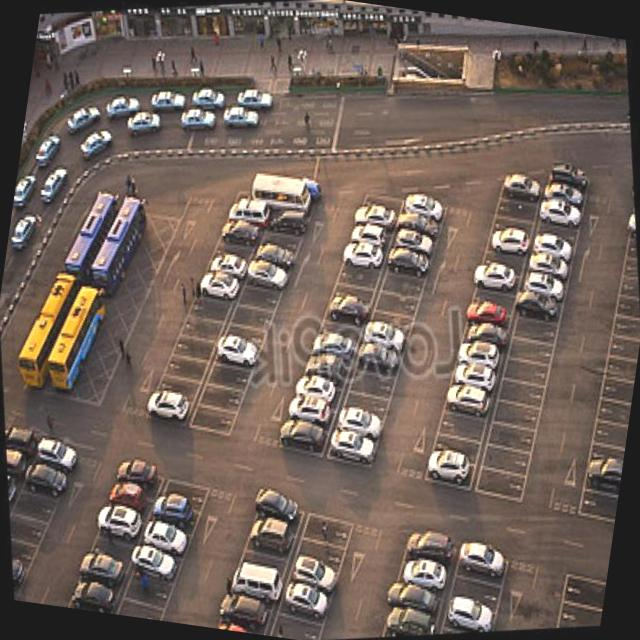car: (388, 542, 454, 600), (220, 554, 288, 610), (417, 441, 482, 499), (396, 516, 462, 573), (236, 508, 300, 566), (450, 536, 514, 592), (277, 572, 338, 630), (212, 584, 280, 636), (284, 545, 346, 600), (72, 540, 134, 594), (438, 370, 500, 424), (382, 570, 446, 622), (127, 536, 188, 590), (272, 412, 334, 464), (322, 422, 381, 476), (136, 512, 197, 564), (140, 382, 200, 434), (436, 591, 499, 640), (92, 494, 150, 546), (356, 312, 414, 364), (347, 336, 405, 388), (147, 487, 206, 538), (297, 344, 356, 395), (246, 478, 306, 528), (374, 594, 439, 640), (305, 324, 364, 374), (445, 349, 504, 399), (451, 326, 510, 376), (328, 402, 389, 450), (456, 307, 517, 355), (210, 332, 268, 379), (382, 236, 436, 286), (19, 454, 75, 502), (282, 389, 338, 437), (346, 190, 402, 238), (65, 571, 126, 615), (470, 253, 526, 300), (112, 452, 168, 499), (319, 288, 375, 335), (102, 473, 156, 521), (29, 431, 84, 478), (462, 288, 518, 334), (289, 367, 343, 414), (341, 210, 395, 257), (398, 181, 452, 227), (192, 264, 246, 310), (337, 231, 391, 277), (240, 253, 292, 300), (387, 216, 440, 262), (247, 234, 300, 279), (200, 247, 253, 291), (394, 202, 447, 246), (512, 286, 566, 329), (578, 449, 624, 498), (212, 213, 264, 256), (482, 221, 536, 262), (522, 245, 573, 288), (494, 164, 546, 206), (519, 264, 571, 306), (528, 226, 577, 268), (222, 194, 271, 236), (208, 606, 274, 636), (264, 202, 313, 242), (536, 192, 584, 232), (540, 172, 588, 211), (270, 183, 318, 222), (2, 412, 42, 457), (234, 178, 278, 218), (544, 156, 591, 192), (8, 544, 36, 591), (2, 437, 33, 478), (620, 206, 640, 238)
free: (444, 560, 513, 620), (498, 322, 565, 377), (496, 343, 560, 399), (226, 532, 292, 586), (428, 398, 490, 454), (119, 562, 180, 618), (300, 500, 360, 556), (505, 304, 569, 356), (154, 464, 216, 516), (556, 558, 609, 618), (291, 528, 351, 580), (493, 366, 553, 418), (336, 382, 398, 432), (8, 478, 65, 532), (368, 276, 426, 328), (362, 296, 421, 347), (223, 294, 284, 343), (375, 258, 431, 310), (180, 286, 238, 336), (172, 304, 230, 354), (200, 355, 260, 403), (424, 422, 484, 470), (346, 361, 404, 410), (193, 376, 252, 424), (489, 391, 546, 440), (183, 398, 241, 446), (232, 274, 290, 322), (484, 413, 541, 461), (349, 176, 406, 224), (216, 314, 274, 361), (164, 324, 220, 372), (156, 346, 212, 394), (473, 461, 530, 508), (328, 253, 384, 300), (82, 524, 138, 570), (573, 478, 620, 532), (478, 437, 534, 482), (204, 228, 260, 272), (7, 503, 55, 554), (269, 600, 330, 640), (311, 308, 366, 352), (152, 366, 206, 410), (326, 270, 380, 314), (487, 188, 542, 230), (554, 587, 604, 633), (255, 222, 308, 264), (484, 203, 540, 242), (113, 586, 173, 622), (584, 412, 629, 459), (531, 210, 582, 251), (476, 240, 530, 278), (466, 279, 520, 316), (7, 530, 44, 582), (590, 390, 632, 434), (594, 369, 636, 413), (596, 348, 638, 390), (600, 325, 640, 369), (582, 434, 626, 474), (605, 307, 640, 348), (610, 290, 640, 328), (614, 273, 640, 307), (617, 257, 640, 286)
